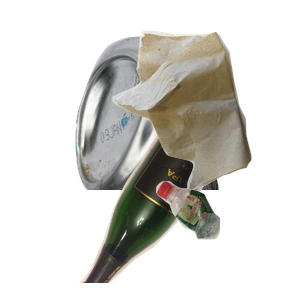glass: (66, 120, 279, 300)
metal: (73, 34, 285, 214)
plastic: (153, 178, 300, 300)
trash: (109, 28, 300, 208)
